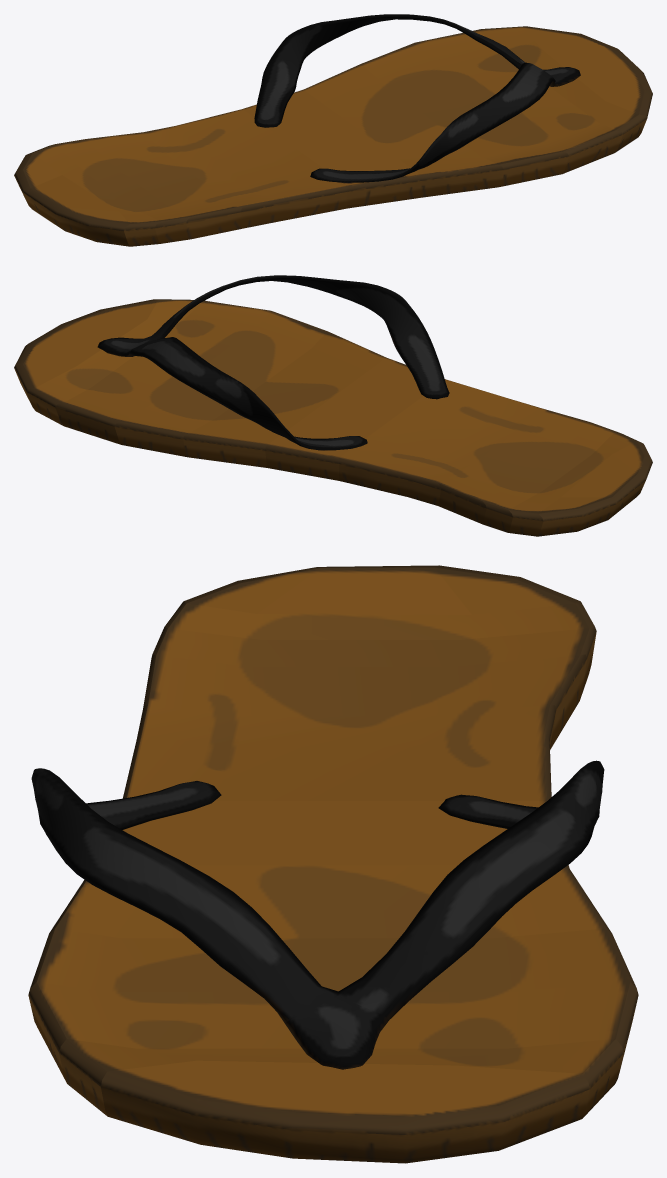
The model's file is ChanclaBlack.fbx.
The picture shows the model from 3 angles, top to bottom: view 1: azimuth 30°, elevation 25°; view 2: azimuth 150°, elevation 25°; view 3: azimuth 270°, elevation 25°; orthographic projection. The views are drawn at different scales.
Parts seen in each view (by area): view 1: ChanclaBlack:chacnla, ChanclaBlack:bands; view 2: ChanclaBlack:chacnla, ChanclaBlack:bands; view 3: ChanclaBlack:chacnla, ChanclaBlack:bands.
Boxes of the visible parts, box(x1,y1,x2,y2) form: ChanclaBlack:chacnla: box(14, 26, 652, 246); ChanclaBlack:bands: box(254, 14, 580, 182); ChanclaBlack:chacnla: box(14, 299, 652, 536); ChanclaBlack:bands: box(97, 275, 449, 450); ChanclaBlack:chacnla: box(28, 565, 638, 1163); ChanclaBlack:bands: box(31, 760, 604, 1069).
Size of the model in its own units: 18.46 by 2.53 by 8.28.
Materials: 1 (1 with a texture image).
